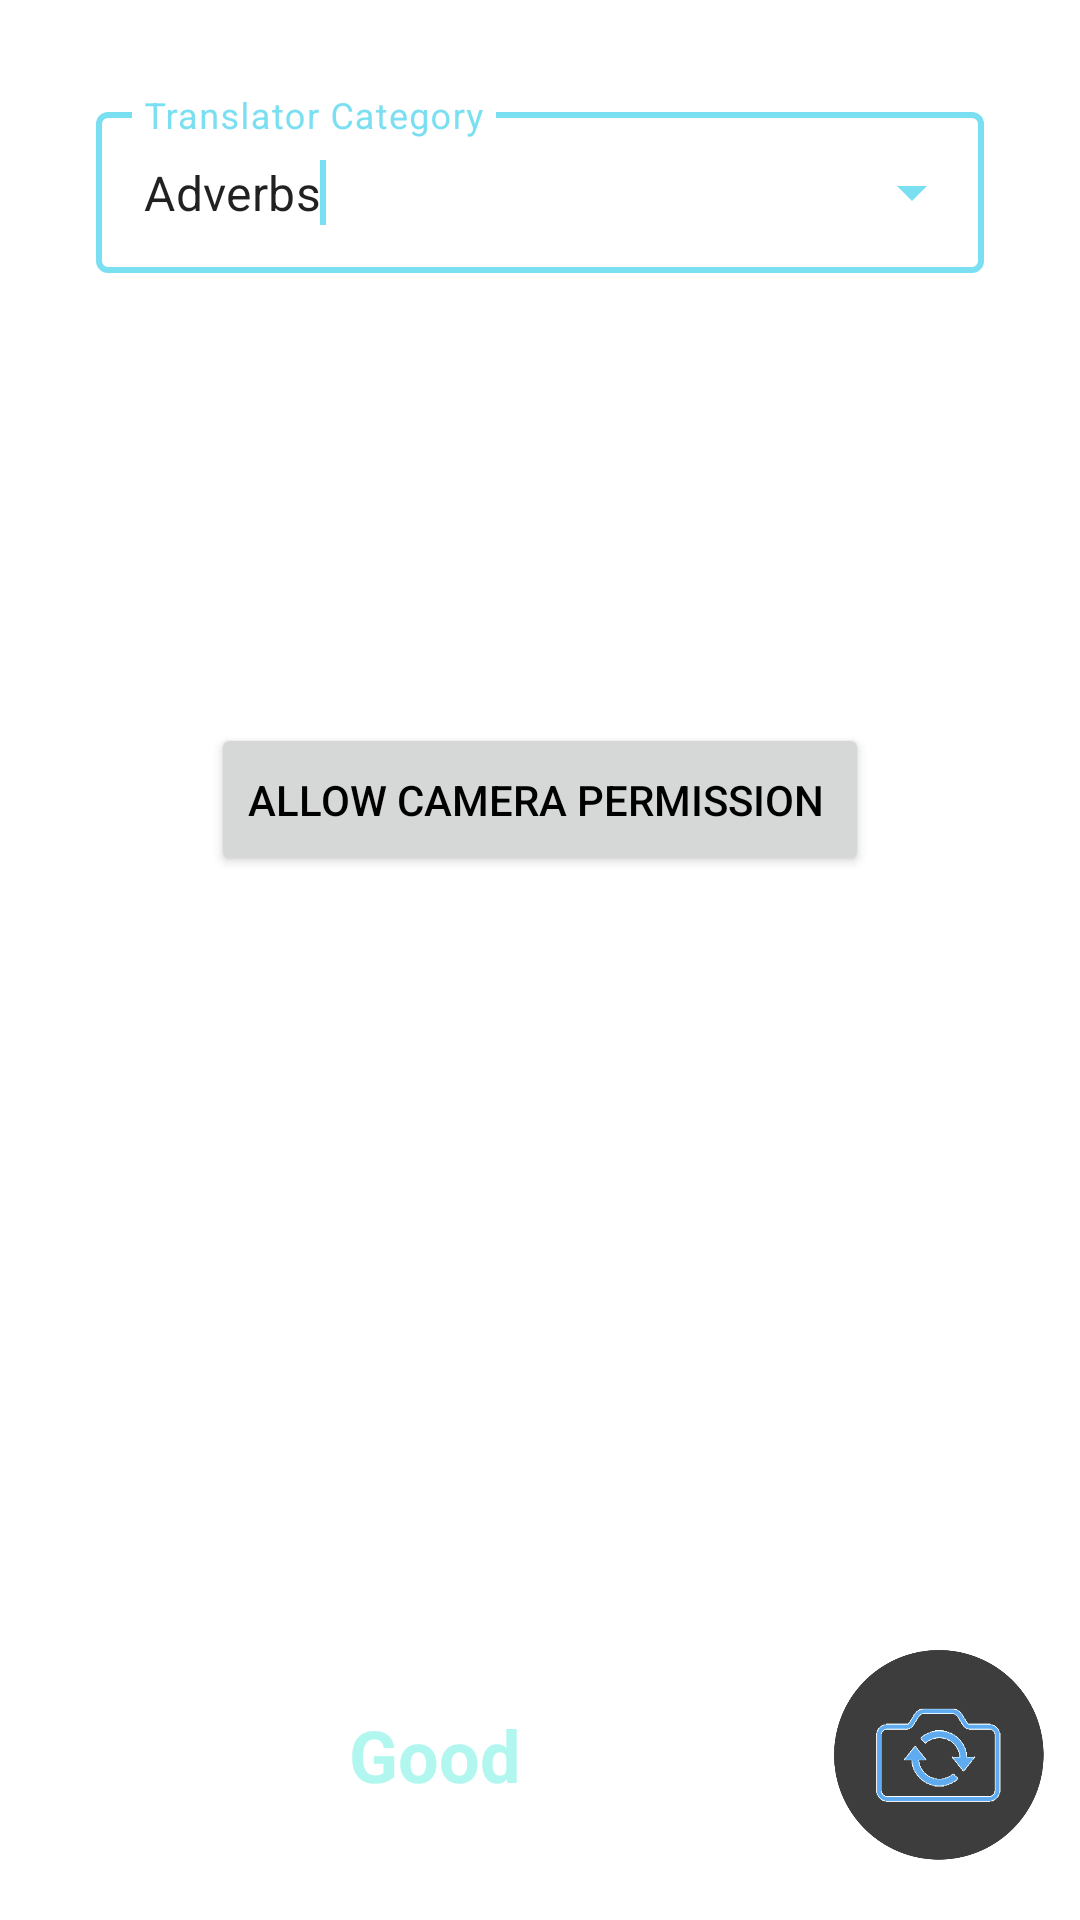

Icon bounding boxes for this 1080w x 1920h phone screenshot, format (x1, y1, x2, y2):
switch camera: (834, 1650, 1044, 1860)
